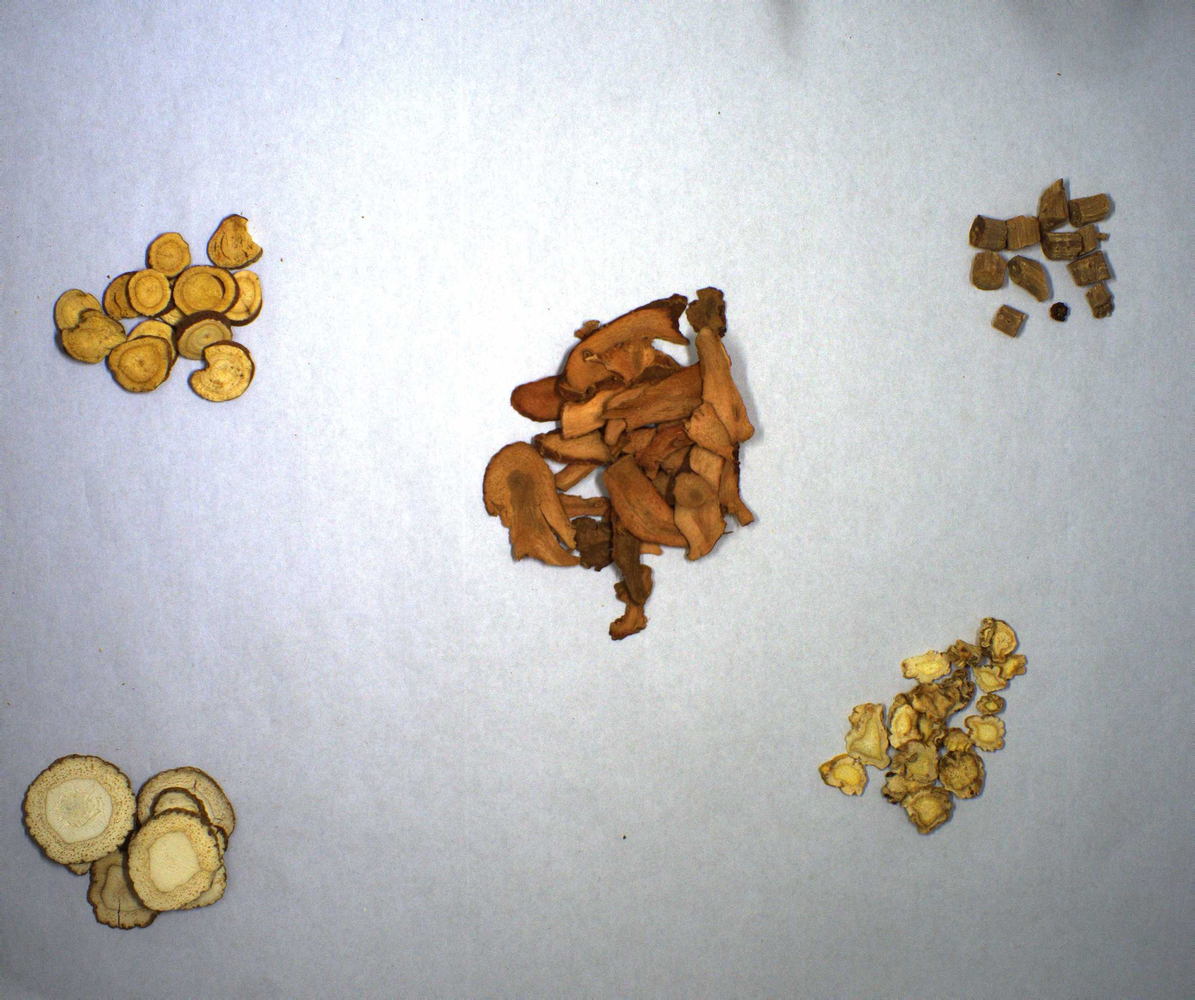baizhi: (11, 744, 263, 944)
gancao: (47, 203, 294, 410)
gaoliangjiang: (446, 286, 783, 648)
jiegeng: (807, 618, 1035, 833)
niuxi: (929, 177, 1145, 341)
